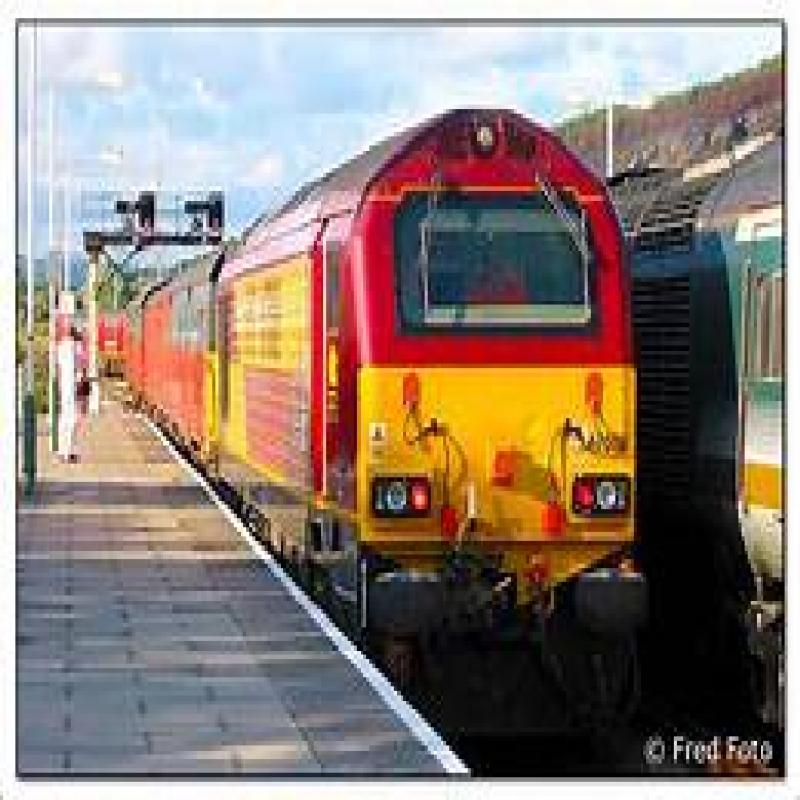train: (146, 174, 675, 619)
